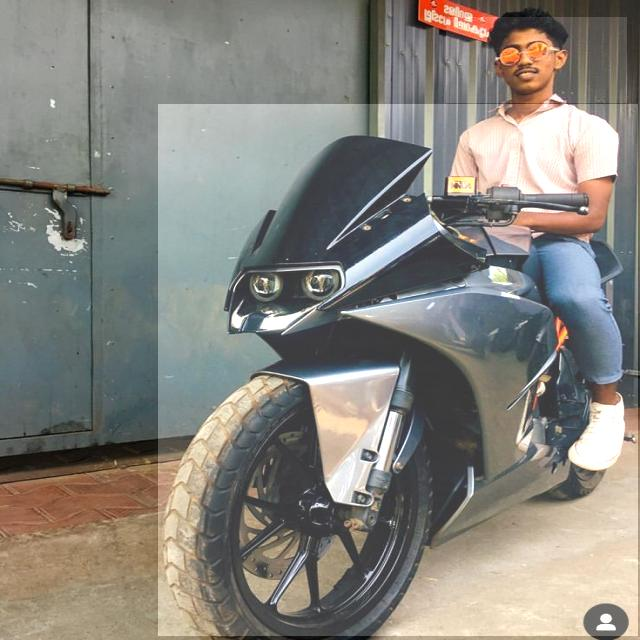Bike: (158, 104, 638, 636)
No_Helmet: (446, 18, 627, 104)
